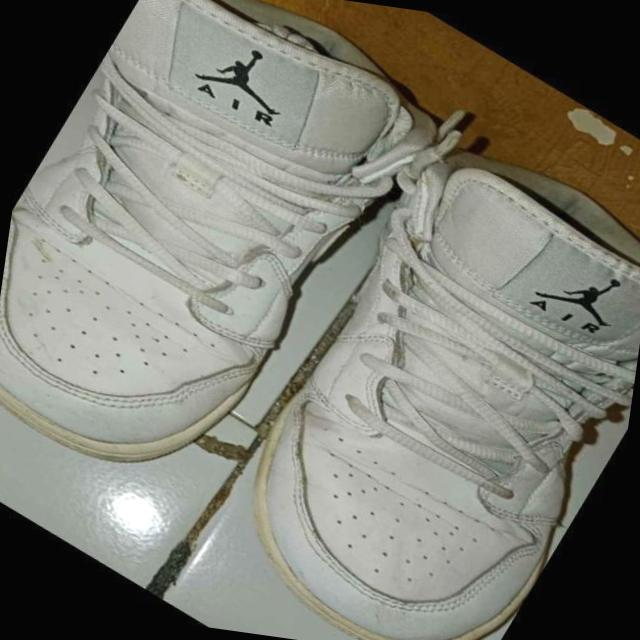nike_fake_jordan: (165, 75, 640, 640), (0, 0, 460, 550)
